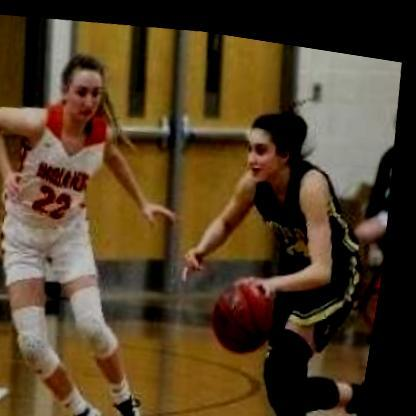basketball: (217, 266, 289, 349)
